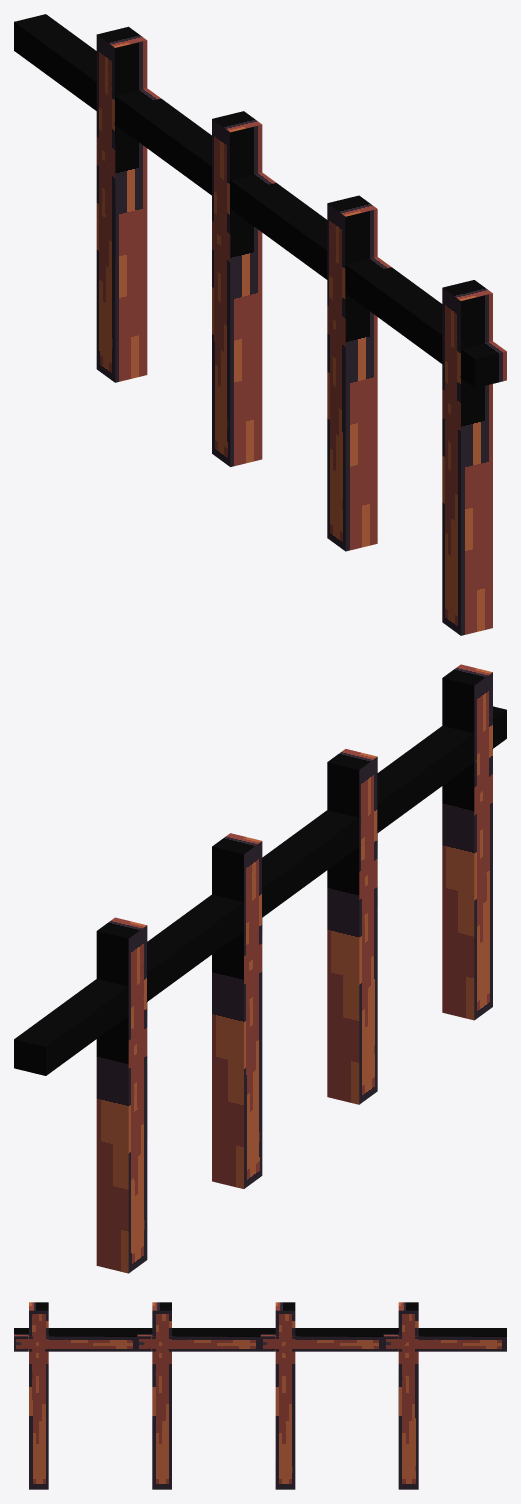
Rendered from fence.glb.
The picture shows the model from 3 angles, top to bottom: view 1: azimuth 30°, elevation 25°; view 2: azimuth 150°, elevation 25°; view 3: azimuth 270°, elevation 25°; orthographic projection. The views are drawn at different scales.
Visible parts, largest first — view 1: 立方体; view 2: 立方体; view 3: 立方体.
Part boxes in pixels (left/top/right/bottom): 立方体: left=14, top=14, right=506, bottom=635; 立方体: left=14, top=664, right=506, bottom=1273; 立方体: left=14, top=1302, right=506, bottom=1489.
Bounding box in the file's own units: 0.2 × 2 × 4.99.
Materials: 1 (1 with a texture image).
